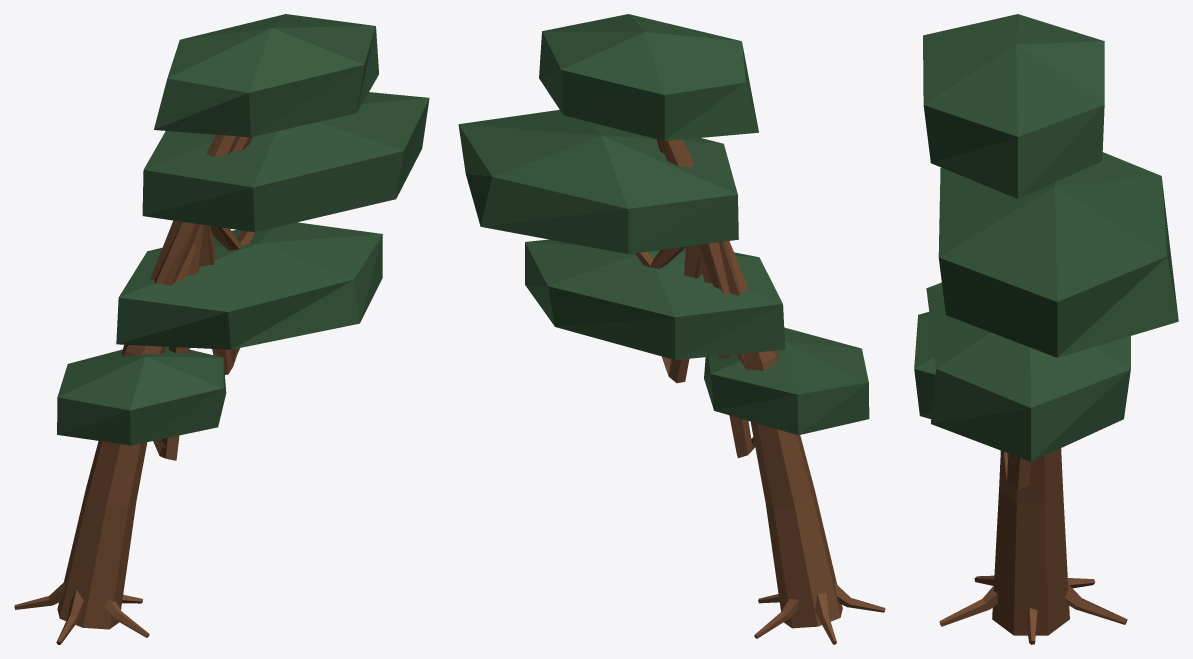
The model's file is Plant_Common_WindsweptPine_001_LOD1.glb.
3 views of the same model, side by side, from view 1: azimuth 30°, elevation 25°; view 2: azimuth 150°, elevation 25°; view 3: azimuth 270°, elevation 25° (orthographic). The views are drawn at different scales.
Parts seen in each view (by area): view 1: Plant_Common_WindsweptPine_001_LOD1; view 2: Plant_Common_WindsweptPine_001_LOD1; view 3: Plant_Common_WindsweptPine_001_LOD1.
Part boxes in pixels (bbox=[...]): Plant_Common_WindsweptPine_001_LOD1: bbox=[14, 14, 429, 644]; Plant_Common_WindsweptPine_001_LOD1: bbox=[458, 14, 885, 644]; Plant_Common_WindsweptPine_001_LOD1: bbox=[914, 14, 1178, 644].
Bounding box in the file's own units: 4.38 × 5.76 × 2.02.
